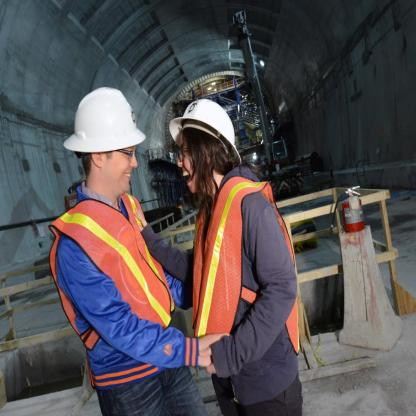Helmet: (59, 86, 147, 156), (168, 98, 241, 166)
